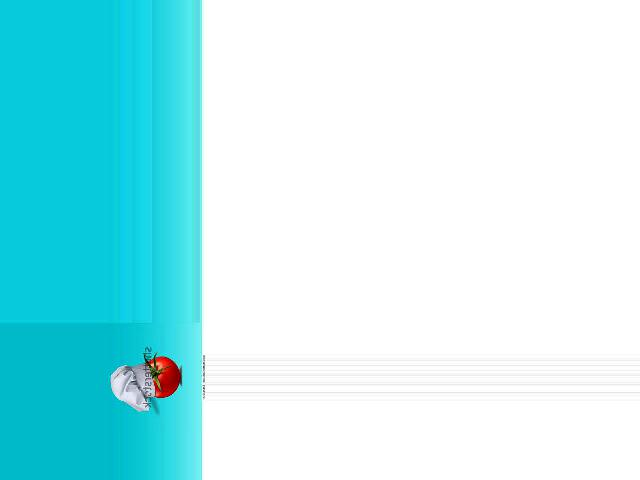tomato: (145, 357, 179, 398)
